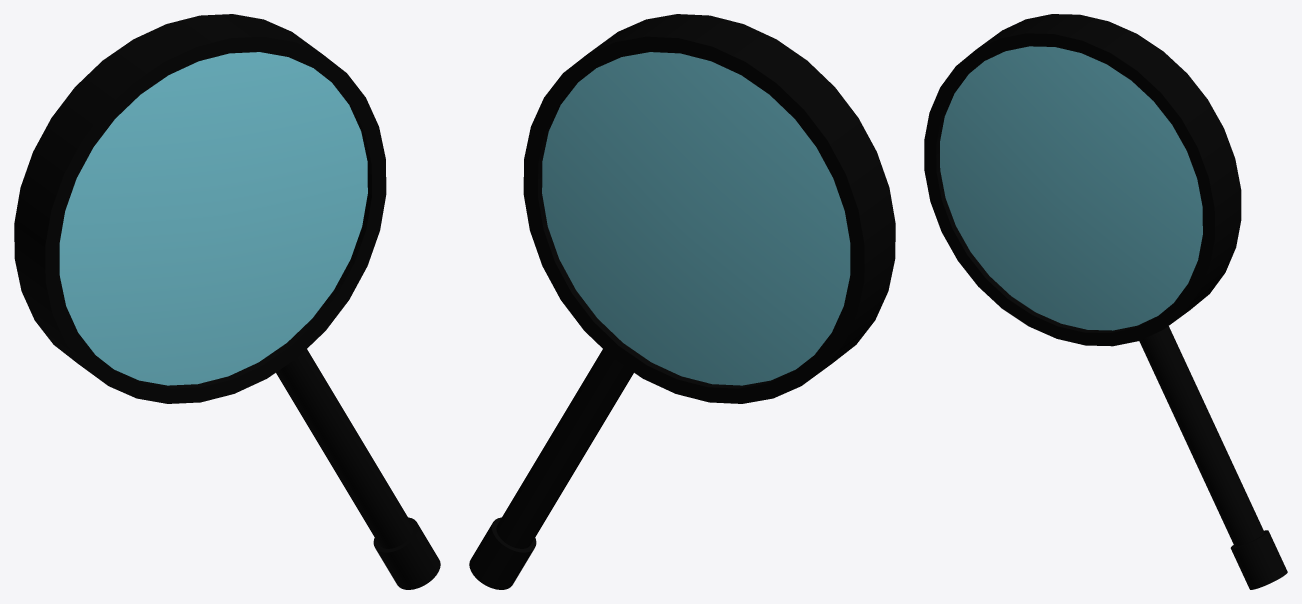
File: magnifying-glass.glb
3 renders of one model, left to right at view 1: azimuth 30°, elevation 25°; view 2: azimuth 150°, elevation 25°; view 3: azimuth 330°, elevation 25°, orthographic. The views are drawn at different scales.
Visible parts, largest first — view 1: Circle, Cylinder; view 2: Circle, Cylinder; view 3: Circle, Cylinder.
Boxes of the visible parts, x1=… form: Circle: x1=14, y1=14, x2=386, y2=403; Cylinder: x1=276, y1=349, x2=440, y2=589; Circle: x1=523, y1=14, x2=895, y2=403; Cylinder: x1=469, y1=349, x2=633, y2=589; Circle: x1=924, y1=14, x2=1241, y2=346; Cylinder: x1=1139, y1=326, x2=1287, y2=589.
Size of the model in its own units: 5.34 by 7.58 by 0.9205.
